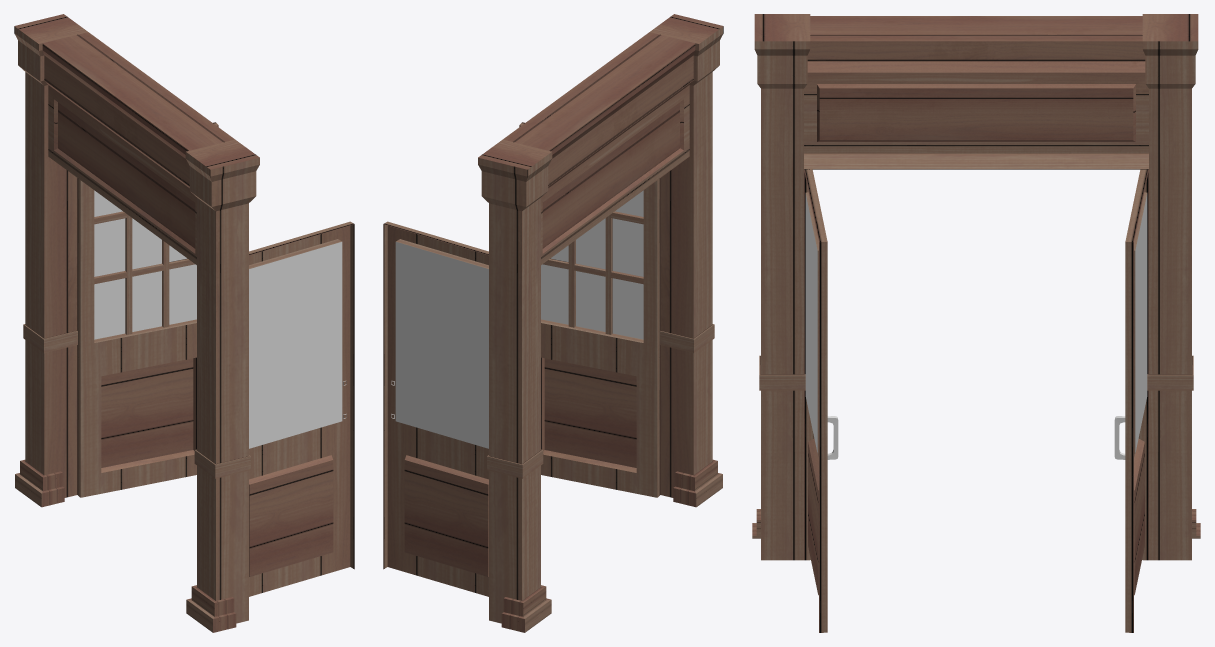
The model's file is SM_Doors.fbx.
The picture shows the model from 3 angles, left to right: view 1: azimuth 30°, elevation 25°; view 2: azimuth 150°, elevation 25°; view 3: azimuth 270°, elevation 25°; orthographic projection. The views are drawn at different scales.
Parts seen in each view (by area): view 1: Cube.004, Cube.003, Cube.009, Cube.002, Cube.006, Cube.005, Cube.007; view 2: Cube.004, Cube.003, Cube.009, Cube.002, Cube.006, Cube.005, Cube.007; view 3: Cube.002, Cube.004, Cube.003, Cube.009, Cube.007, Cube.008.
Part boxes in pixels (x1,y1,x2,y2): Cube.004: (14, 14, 259, 623); Cube.003: (77, 122, 354, 596); Cube.009: (94, 190, 342, 448); Cube.002: (42, 32, 234, 264); Cube.006: (15, 459, 236, 632); Cube.005: (94, 211, 194, 334); Cube.007: (23, 324, 250, 478); Cube.004: (478, 14, 723, 623); Cube.003: (383, 122, 660, 596); Cube.009: (395, 190, 643, 448); Cube.002: (503, 32, 695, 264); Cube.006: (501, 459, 722, 632); Cube.005: (543, 211, 643, 334); Cube.007: (487, 324, 714, 478); Cube.002: (804, 16, 1148, 169); Cube.004: (754, 14, 1198, 560); Cube.003: (804, 169, 1148, 632); Cube.009: (805, 194, 1147, 452); Cube.007: (759, 355, 1193, 390); Cube.008: (827, 416, 1125, 459).
Bounding box in the file's own units: 131 × 335 × 260.
